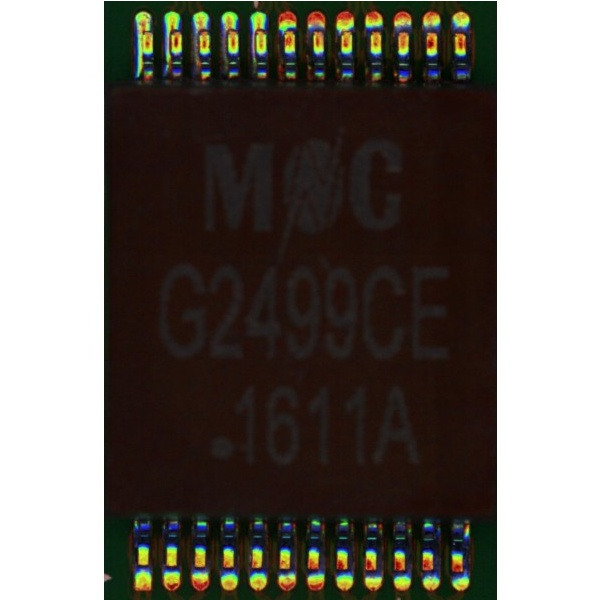Bad_podu: (168, 24, 178, 42), (198, 22, 207, 40), (226, 22, 235, 39), (140, 23, 149, 40), (255, 24, 263, 37)
Bad_qiaojiao: (134, 30, 141, 76), (162, 29, 169, 74), (250, 30, 255, 70)
